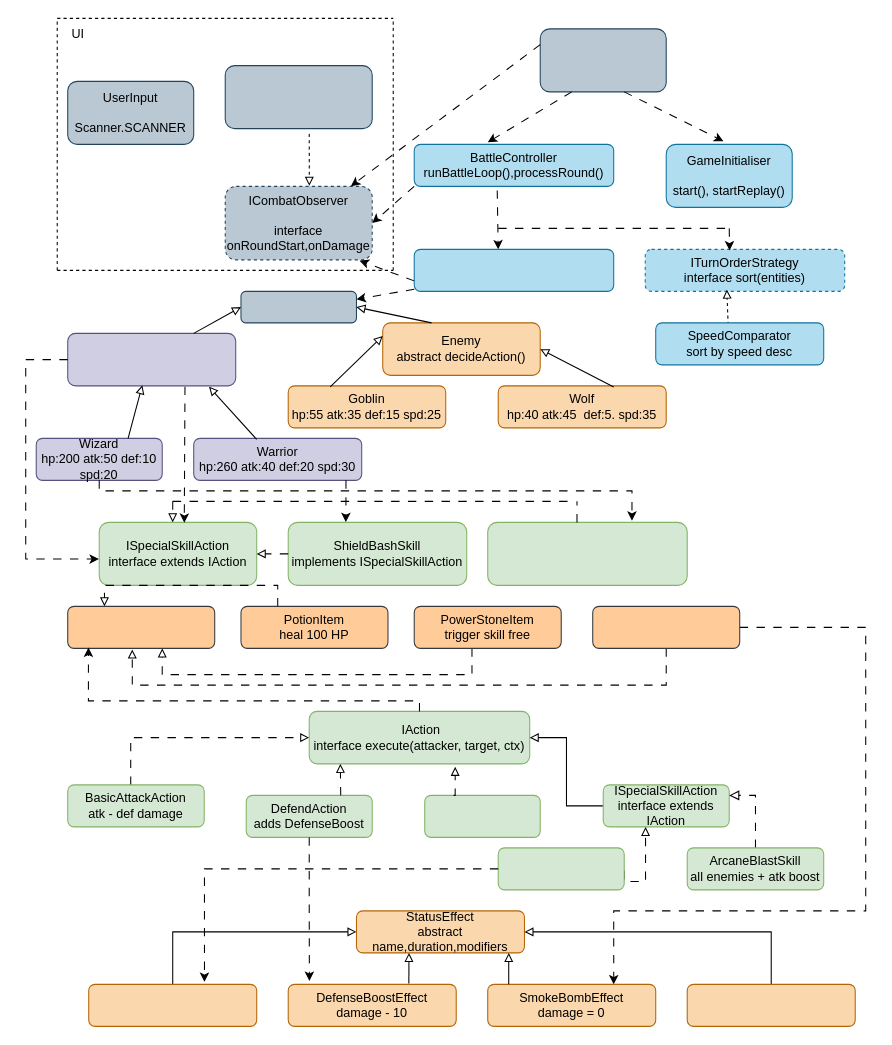
The diagram is 892 pixels wide and 1045 high, and some of its shapes have lost their labels. The box of each missing label's shape, as (x1, y1, x2, y2) in pixels:
AppMain entry point: (539, 28, 666, 92)
ArcaneBlastSkill implements ISpecialSkillAction: (487, 521, 687, 585)
AttackBoostEffect atk + boostAmount: (686, 983, 855, 1026)
CombatConsole implements ICombatObserver: (224, 65, 372, 129)
CombatContext getEntities(), getBoundary(): (413, 248, 614, 291)
Entity: (240, 290, 356, 323)
IItem interface use(),getName(): (67, 605, 215, 648)
ItemAction uses item at slot: (424, 794, 540, 837)
Player abstract inventory,specialSkill: (67, 332, 236, 386)
ShieldBashSkill dmg + StunEffect(2): (497, 847, 624, 890)
SmokeBombItem 0 dmg for 2 turns: (592, 605, 740, 648)
StunEffect canTakeAction=false: (88, 983, 257, 1026)
